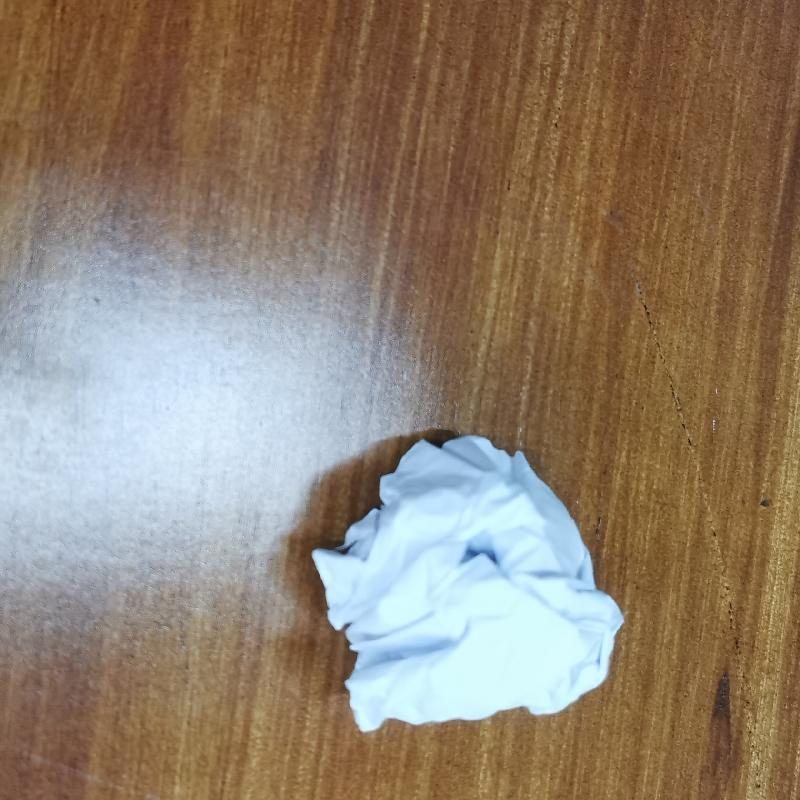spitball: (304, 430, 631, 734)
